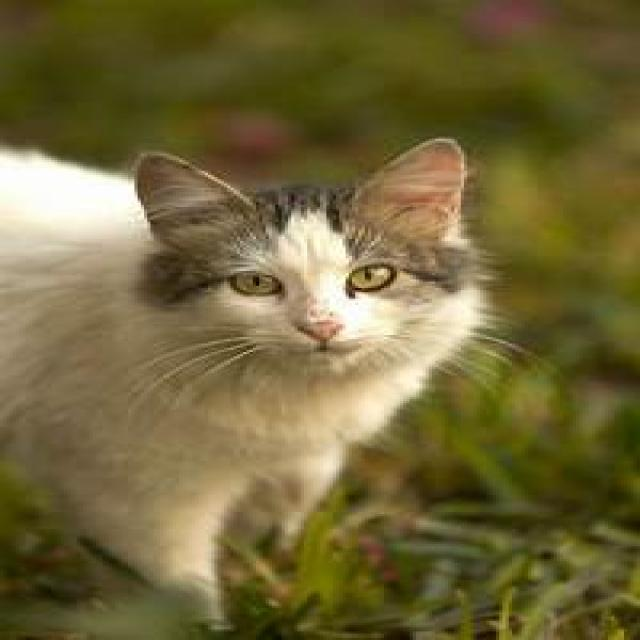animal: (0, 132, 531, 638)
